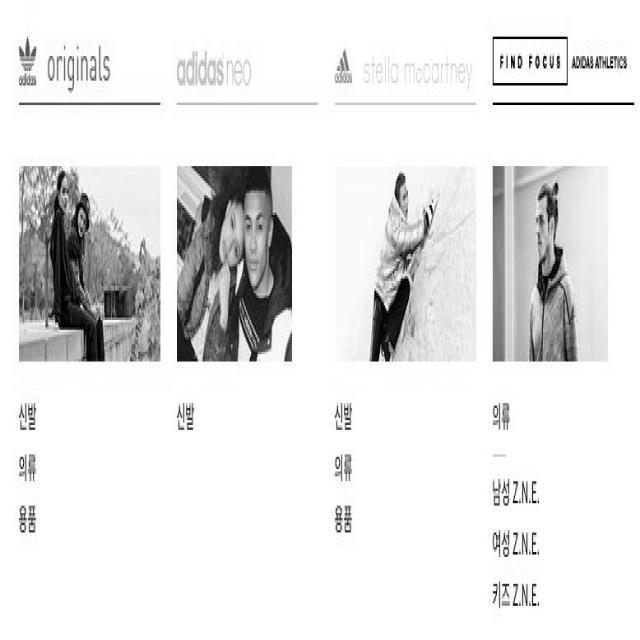Adidas: (13, 29, 38, 78)
